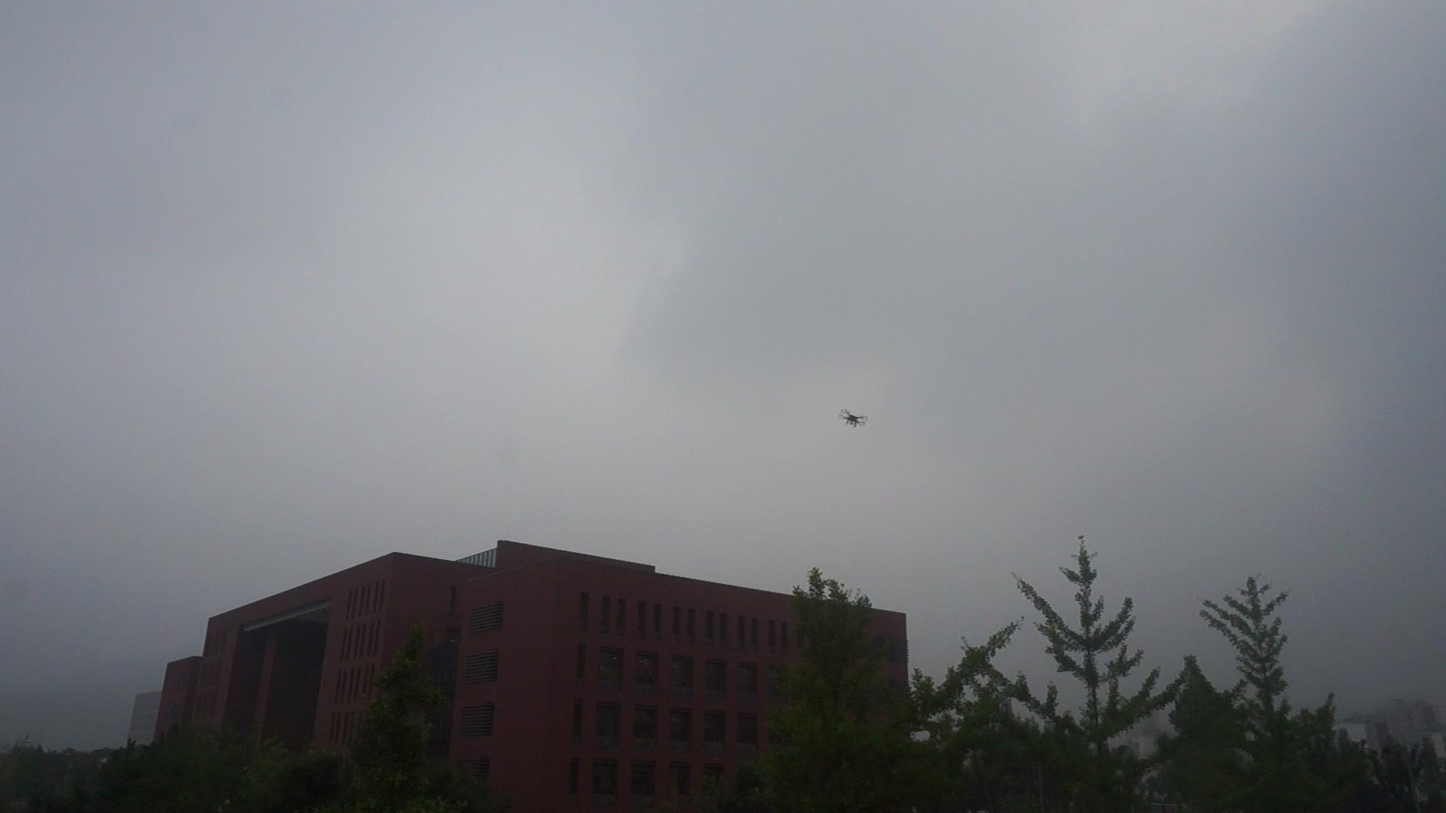UAV: (839, 410, 869, 428)
